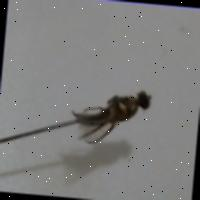Oriental-fruit-fly: (66, 66, 179, 160)
